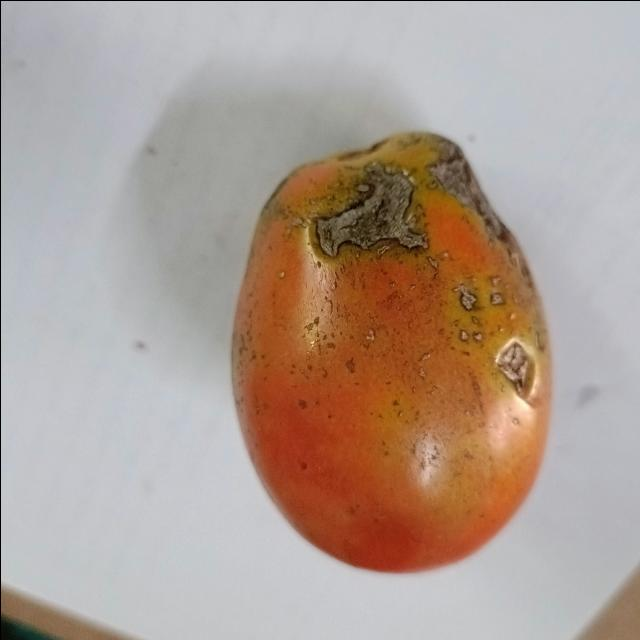Bacterial_Spot: (306, 163, 436, 277), (489, 339, 542, 402), (442, 160, 478, 204), (480, 222, 510, 255), (452, 280, 479, 312)
